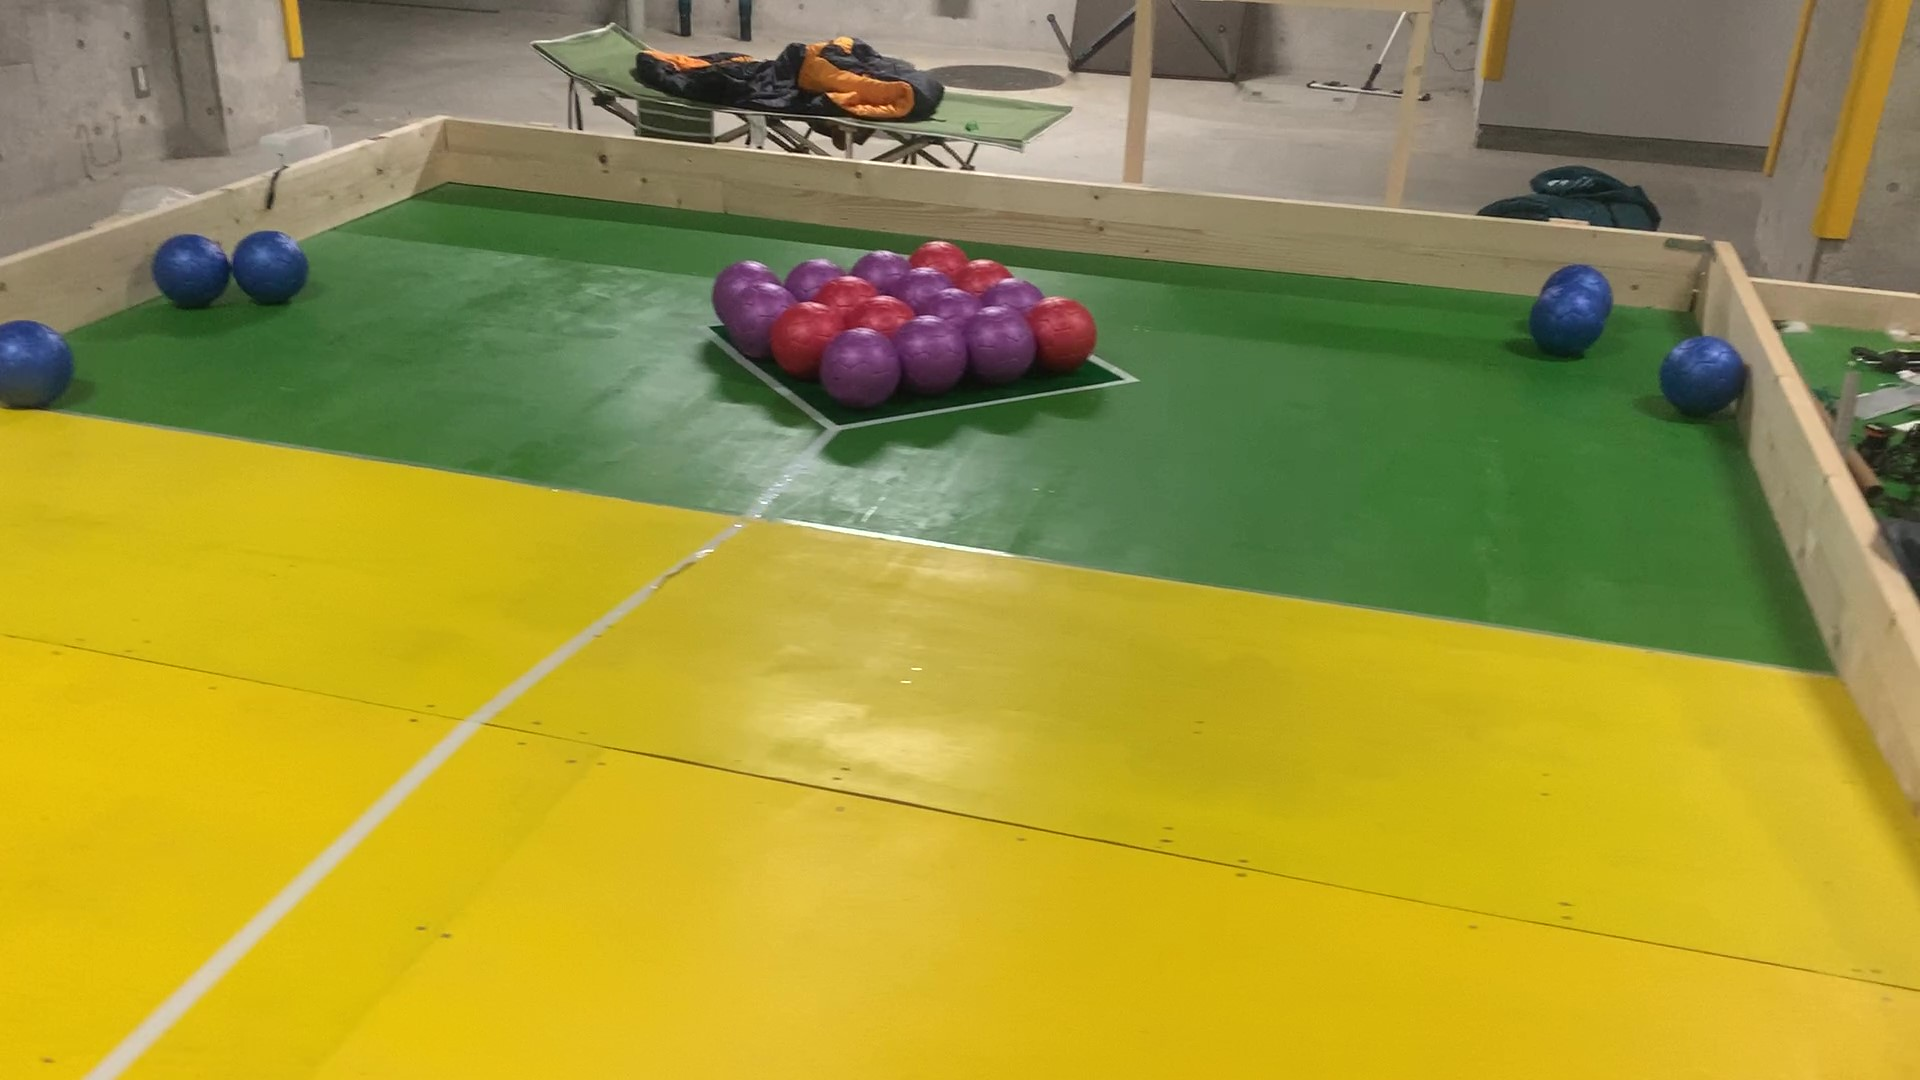blue: (0, 316, 67, 406), (158, 232, 224, 303), (233, 232, 301, 299), (1669, 339, 1734, 407), (1538, 291, 1589, 347), (1560, 264, 1604, 282)
purple: (975, 310, 1030, 373), (833, 339, 893, 397), (903, 323, 952, 384), (741, 287, 781, 351), (711, 262, 741, 324), (903, 268, 948, 298), (787, 257, 828, 287), (989, 280, 1035, 306), (862, 251, 902, 280), (934, 289, 971, 314)
red: (1038, 298, 1093, 368), (782, 305, 825, 378), (858, 301, 907, 327), (829, 282, 866, 311), (968, 262, 1002, 287), (918, 243, 953, 266)
